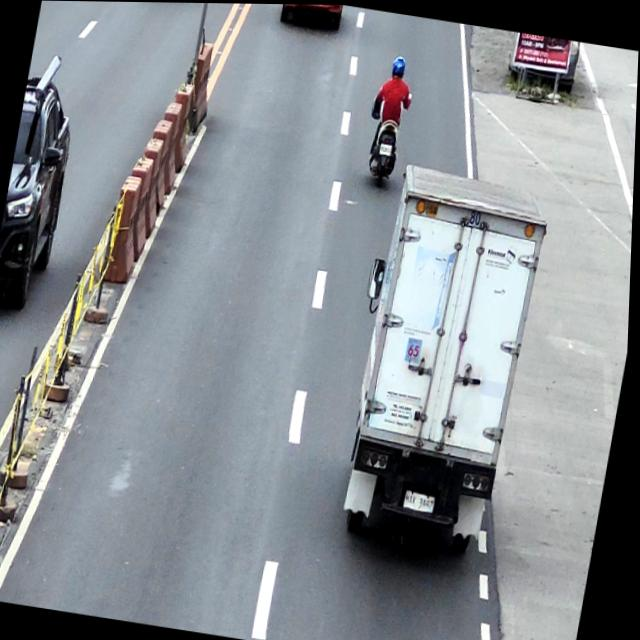Car: (0, 75, 84, 312)
License-Plate: (406, 489, 439, 513), (380, 141, 394, 154)
Motorcycle: (362, 84, 414, 186)
Truck: (327, 158, 558, 563)
